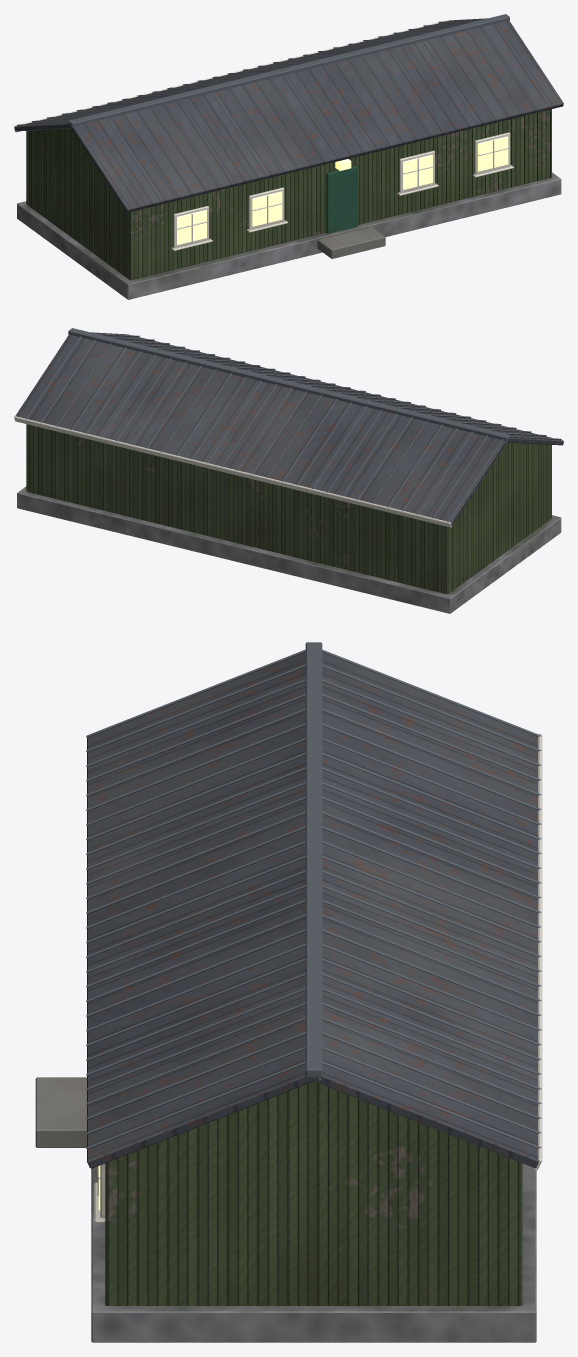
The model's file is barack_tex.glb.
3 views of the same model, one above another, from view 1: azimuth 30°, elevation 25°; view 2: azimuth 150°, elevation 25°; view 3: azimuth 270°, elevation 25° (orthographic). The views are drawn at different scales.
Visible parts, largest first — view 1: barack; view 2: barack; view 3: barack.
Part boxes in pixels (x1,y1,x2,y2): barack: (14,14,563,299); barack: (14,328,563,613); barack: (35,642,542,1342).
Bounding box in the file's own units: 14.55 × 4.38 × 7.28.
Materials: 8 (6 with a texture image).
